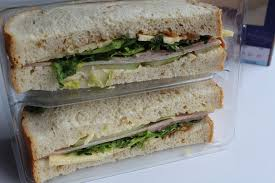sandwich: (1, 76, 243, 183), (1, 1, 247, 95)
